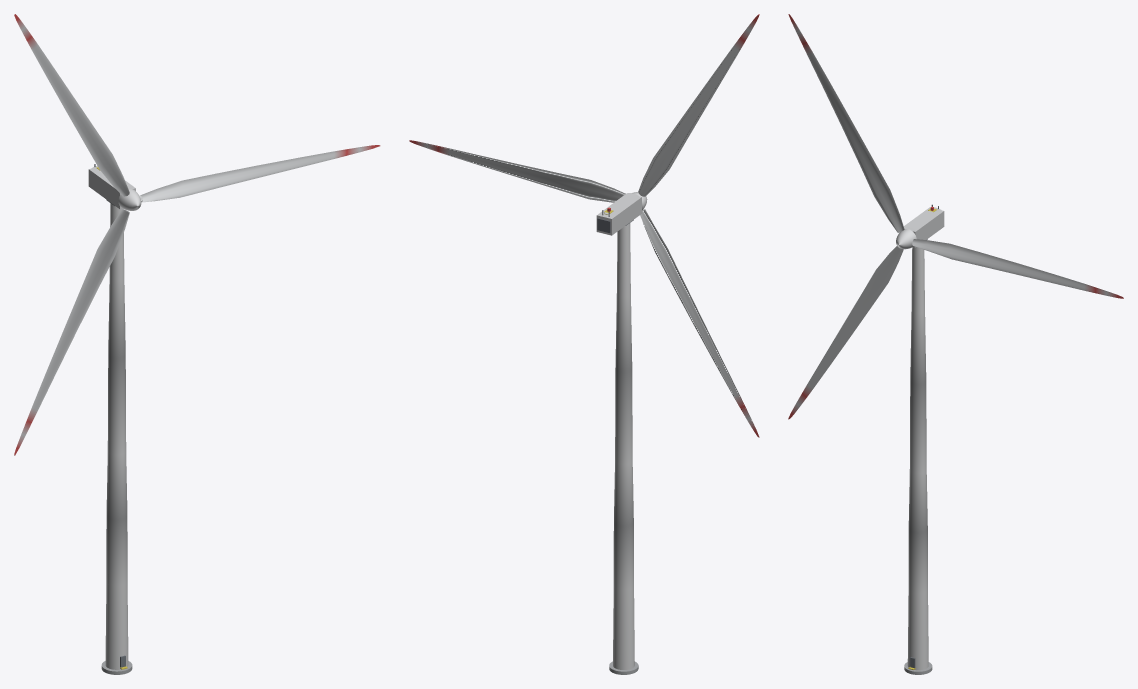
File: wind_turbine.glb
3 renders of one model, left to right at view 1: azimuth 30°, elevation 25°; view 2: azimuth 150°, elevation 25°; view 3: azimuth 330°, elevation 25°, orthographic. The views are drawn at different scales.
Parts seen in each view (by area): view 1: Rotor_Hub_Blades, Tower_Foundation, Nacelle_Yaw; view 2: Tower_Foundation, Rotor_Hub_Blades, Nacelle_Yaw; view 3: Rotor_Hub_Blades, Tower_Foundation, Nacelle_Yaw.
Part boxes in pixels (x1=…): Rotor_Hub_Blades: x1=14, y1=14, x2=380, y2=455; Tower_Foundation: x1=101, y1=203, x2=132, y2=674; Nacelle_Yaw: x1=88, y1=164, x2=135, y2=209; Tower_Foundation: x1=609, y1=223, x2=638, y2=674; Rotor_Hub_Blades: x1=409, y1=14, x2=759, y2=437; Nacelle_Yaw: x1=596, y1=193, x2=641, y2=235; Rotor_Hub_Blades: x1=788, y1=14, x2=1123, y2=419; Tower_Foundation: x1=904, y1=247, x2=932, y2=674; Nacelle_Yaw: x1=903, y1=204, x2=944, y2=247.
Size of the model in its own units: 88.22 by 161 by 17.55.
